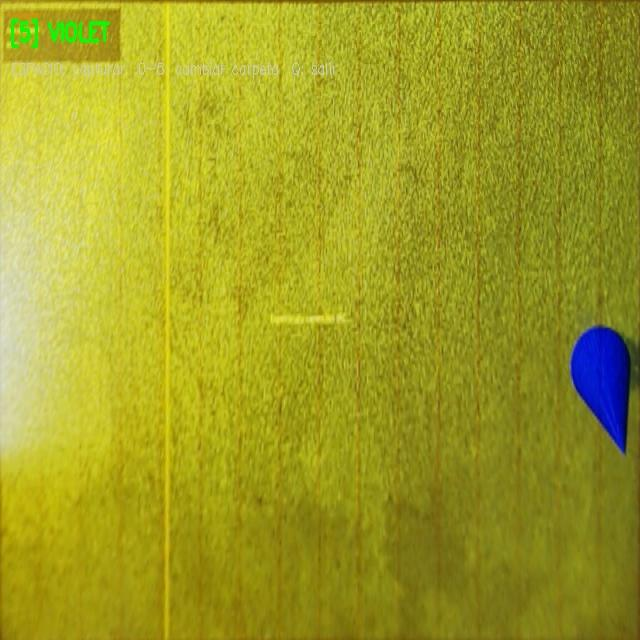violet: (570, 325, 630, 453)
